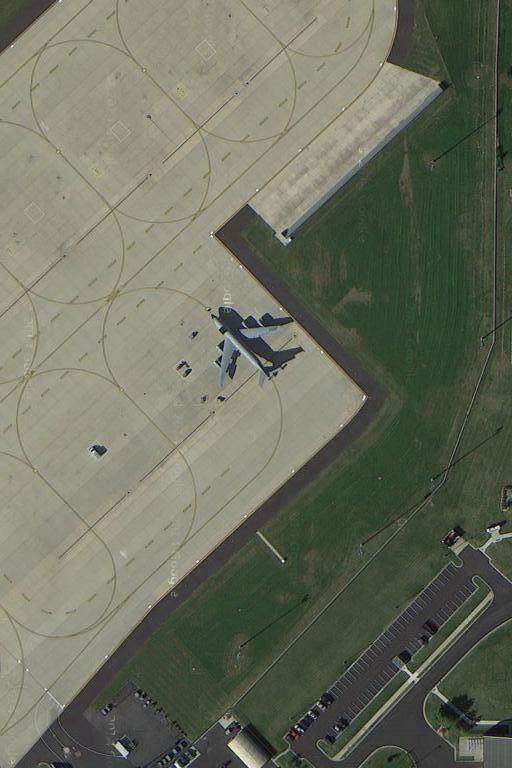KC-135: (205, 309, 294, 388)
